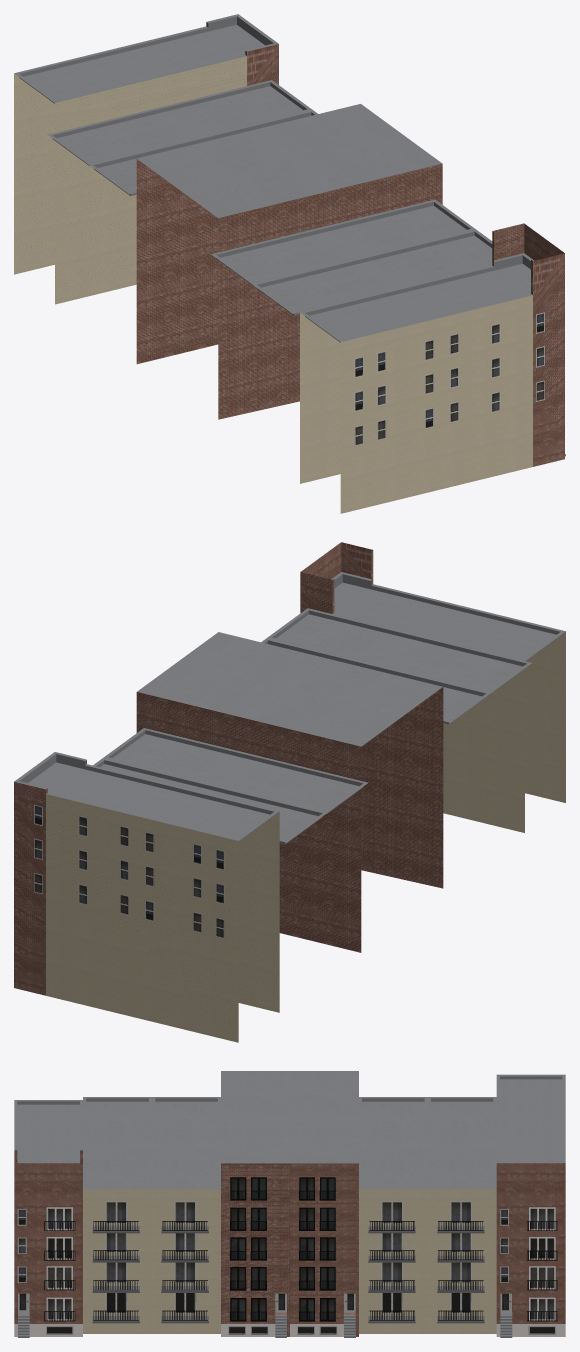
File: Flats_Big.fbx
3 views of the same model, one above another, from view 1: azimuth 30°, elevation 25°; view 2: azimuth 150°, elevation 25°; view 3: azimuth 270°, elevation 25° (orthographic). The views are drawn at different scales.
Parts seen in each view (by area): view 1: Flats; view 2: Flats; view 3: Flats.
Part boxes in pixels (<box>): Flats: <box>14,14,565,513</box>; Flats: <box>14,542,565,1042</box>; Flats: <box>14,1071,565,1337</box>.
Bounding box in the file's own units: 908 × 737 × 2123.
10 materials, 10 textured.
